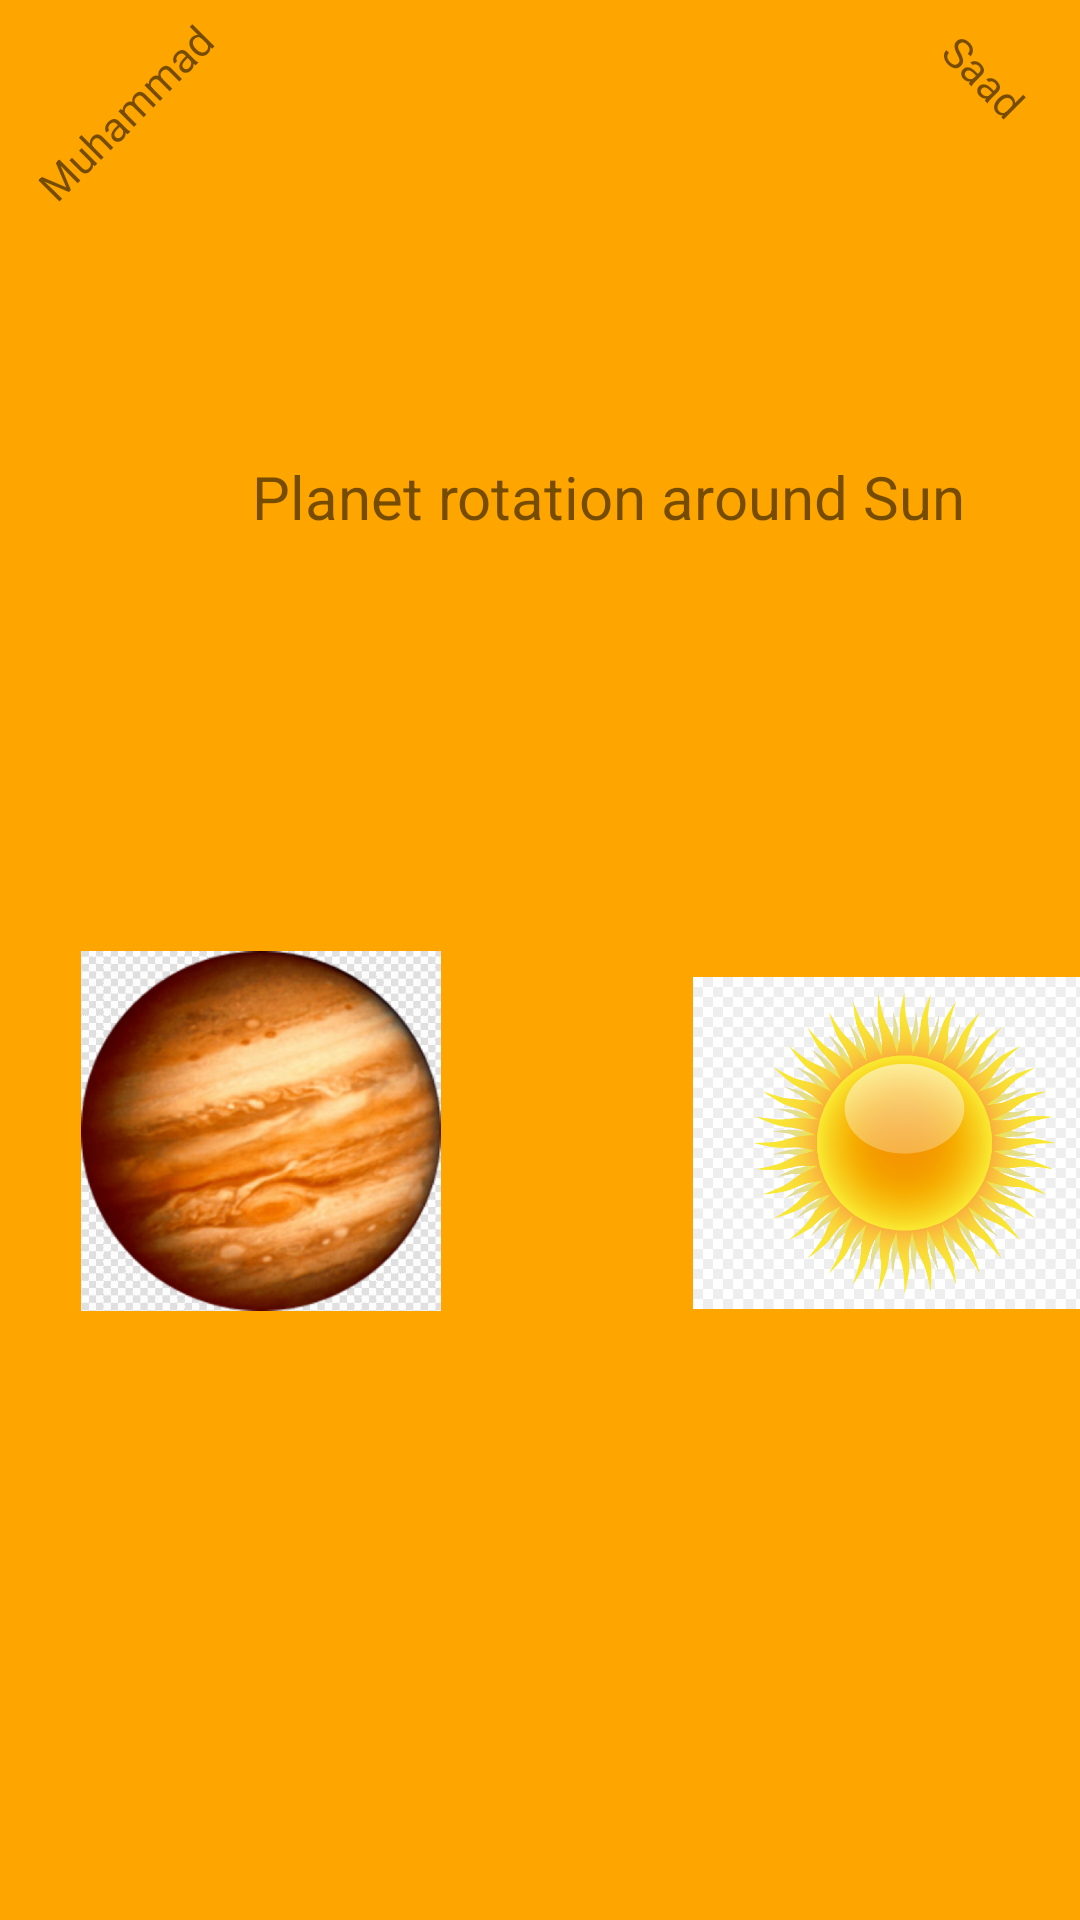

Icon click points for this 1080 × 1920 phone screenshot, format (x=x, y=y):
jupiter: (x=261, y=1131)
